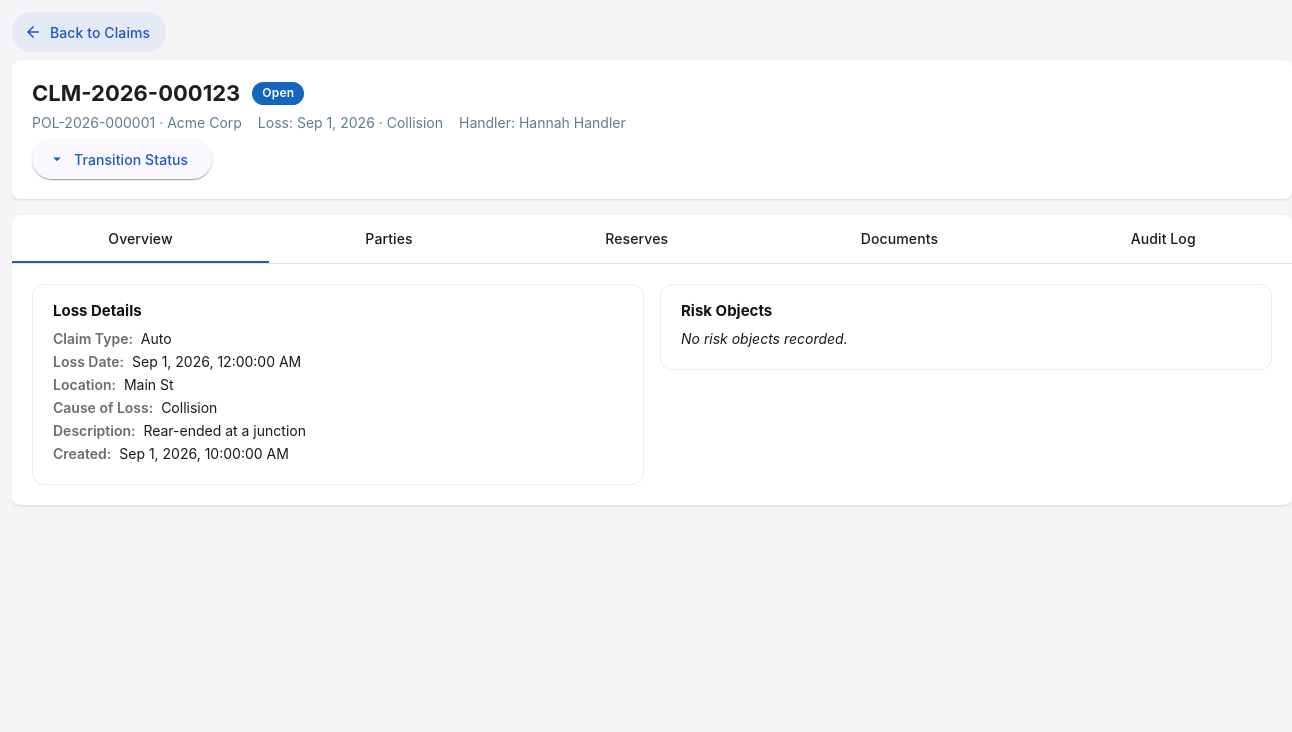
ClaimDetailComponent › F-11: reserve approval buttons are role-gated › says "a Manager", not "another Manager", when a Supervisor requested a Manager-tier change
Click the tab "Reserves" at (637, 238), box [605, 230, 668, 247]
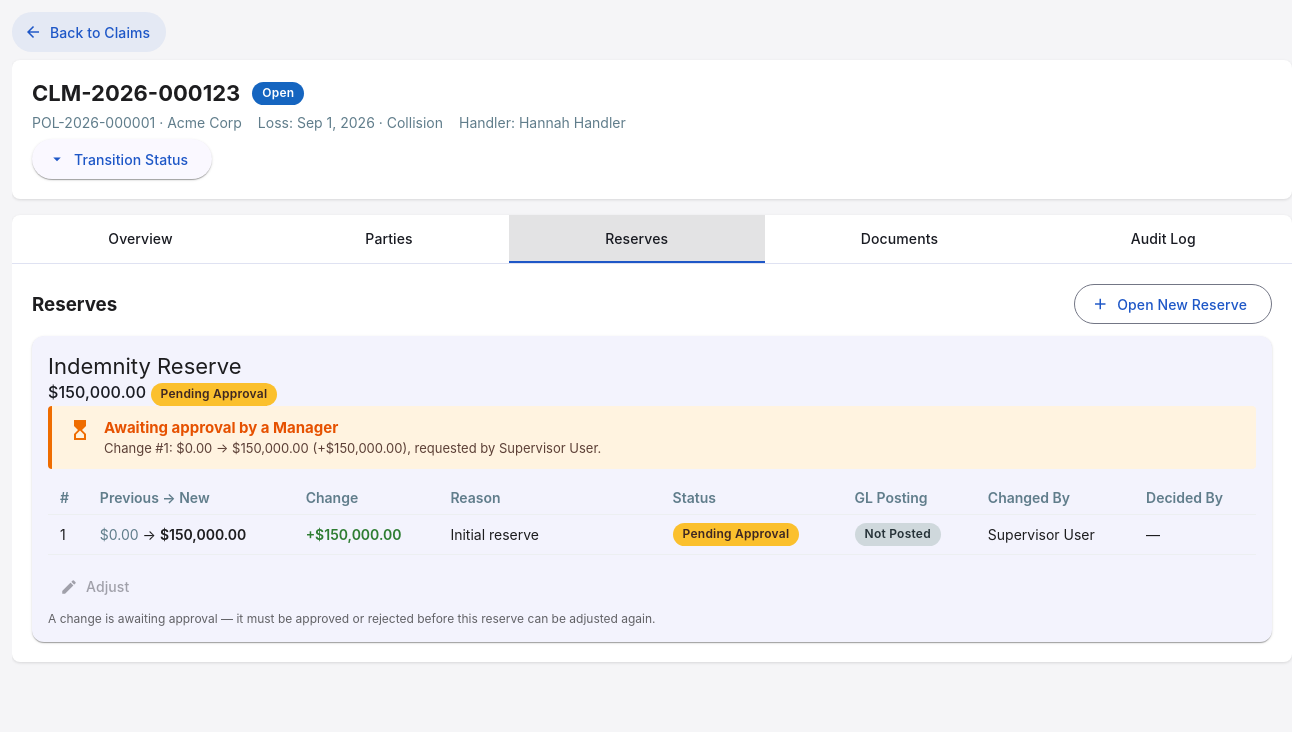
Expected: the text "Awaiting approval by a Manager" is shown, [104, 418, 338, 437]
